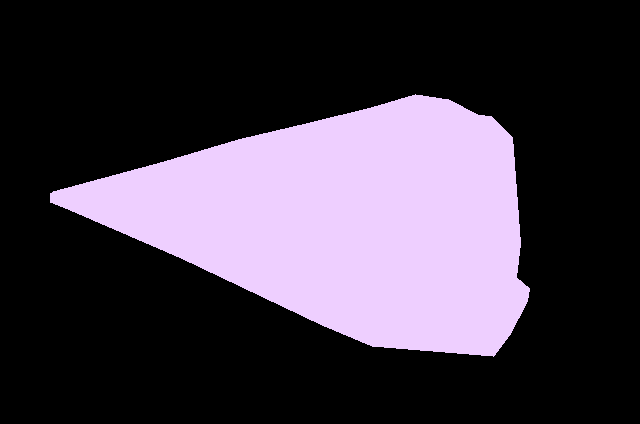Train: (50, 94, 530, 356)
